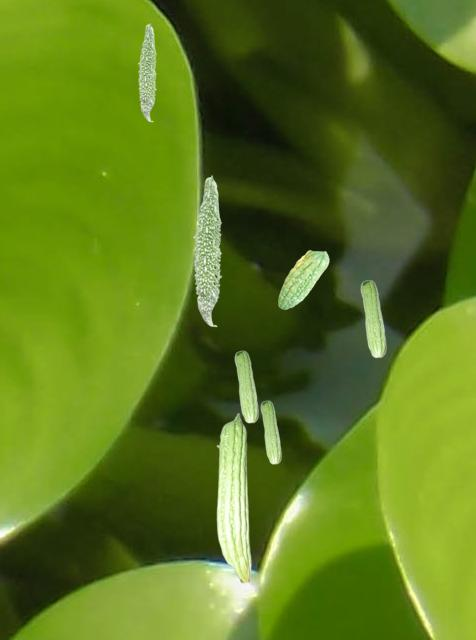ampalaya: (216, 412, 251, 583), (192, 174, 222, 327), (277, 249, 329, 310), (360, 279, 387, 358), (137, 22, 157, 122), (234, 350, 259, 423), (260, 400, 282, 464)
